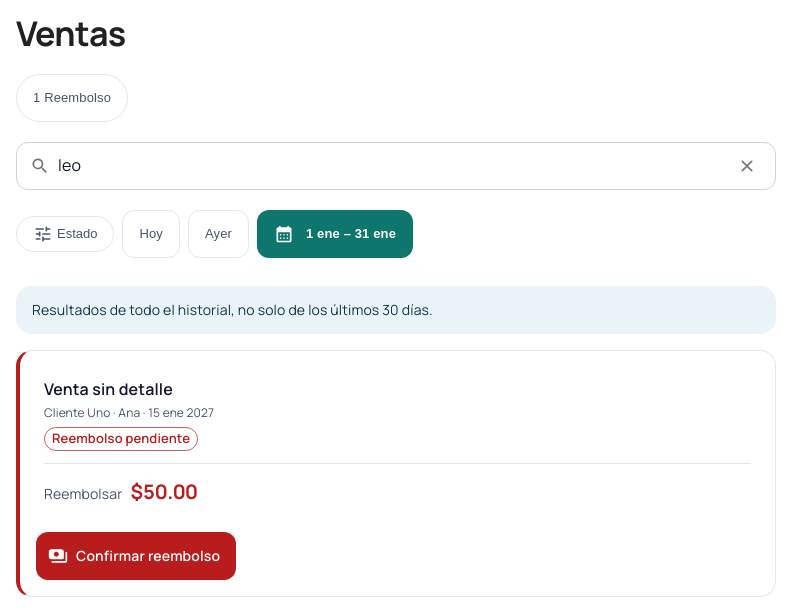
Scenario: US-A83 — finding one sale › S-10 — a pending-work pill clears the query and the range
The image size is (793, 614).
Click the button "1 Reembolso".
click(72, 98)  # box [16,74,128,122]
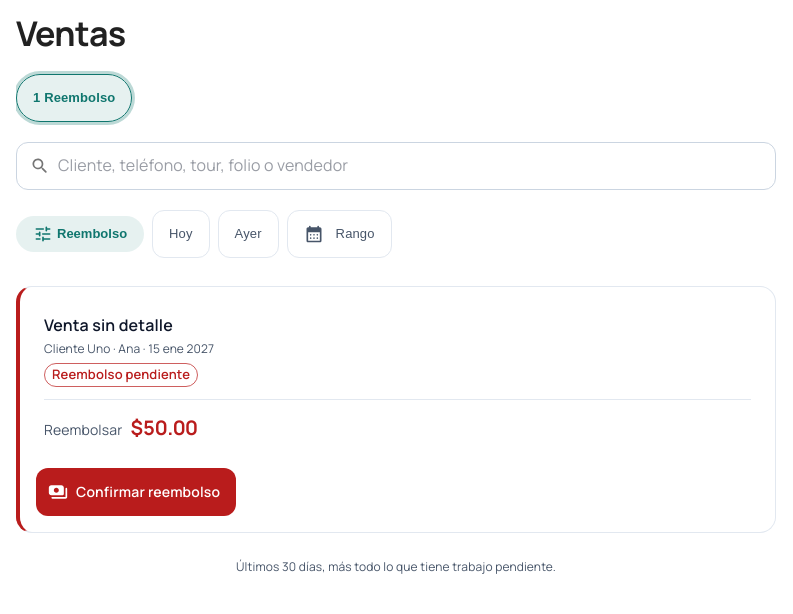
Now the field named "Buscar ventas" is empty, box [58,142,776,190]
Now the button "Reembolso" is shown, box [16,216,144,252]
